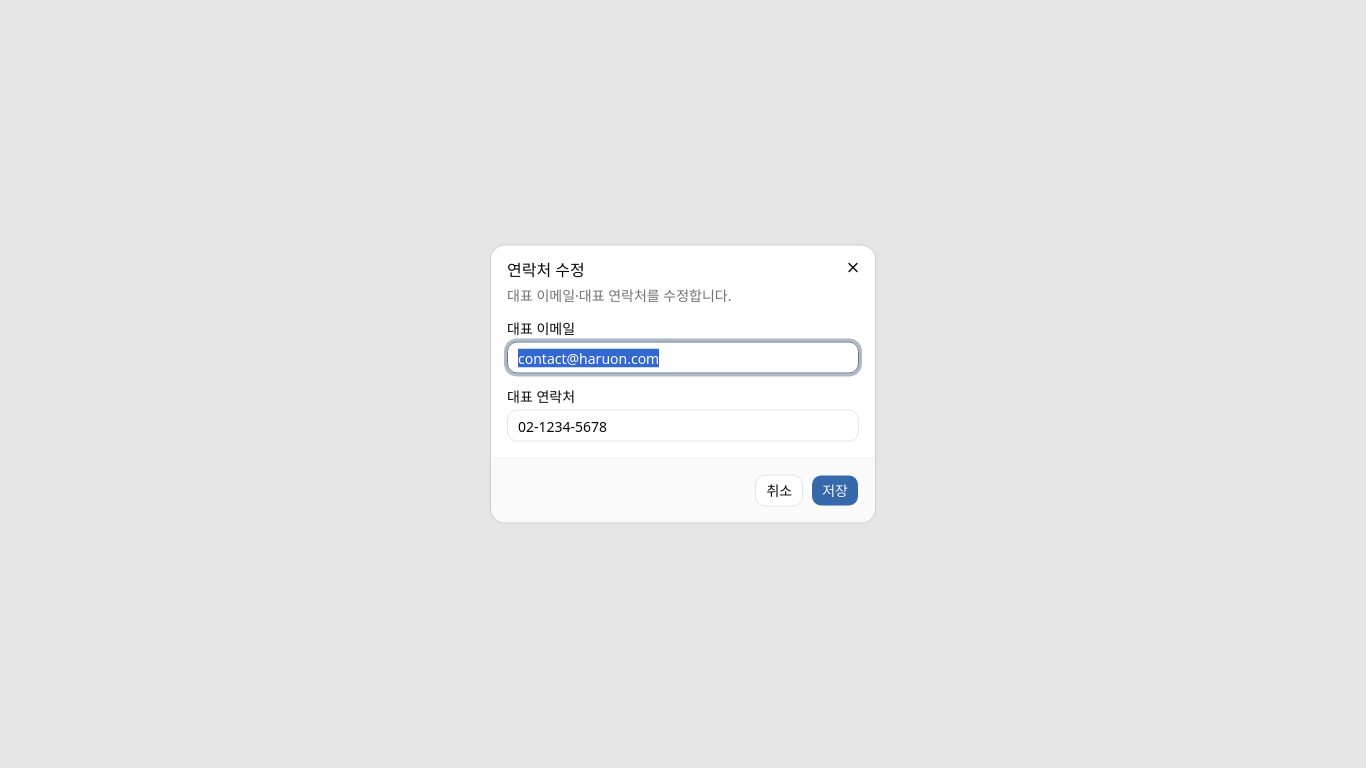
CompanyContactEditDialog › 이메일 형식이 올바르지 않으면 zod 검증 에러를 노출한다
Replace the text in the field labelled "대표 이메일" with "not-an-email". click: (683, 358)
box: [507,342,859,374]
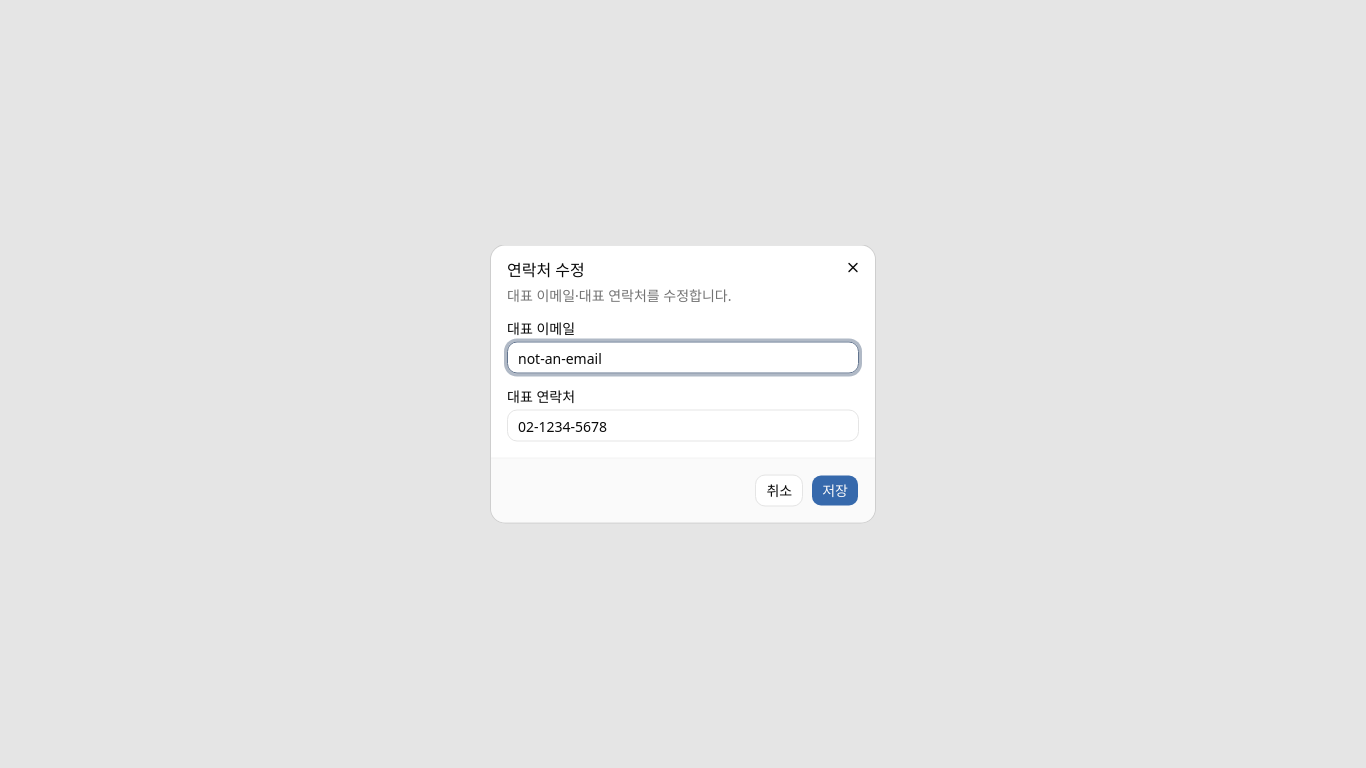
Click the button "저장". click: (835, 490)
box: [811,474,859,506]
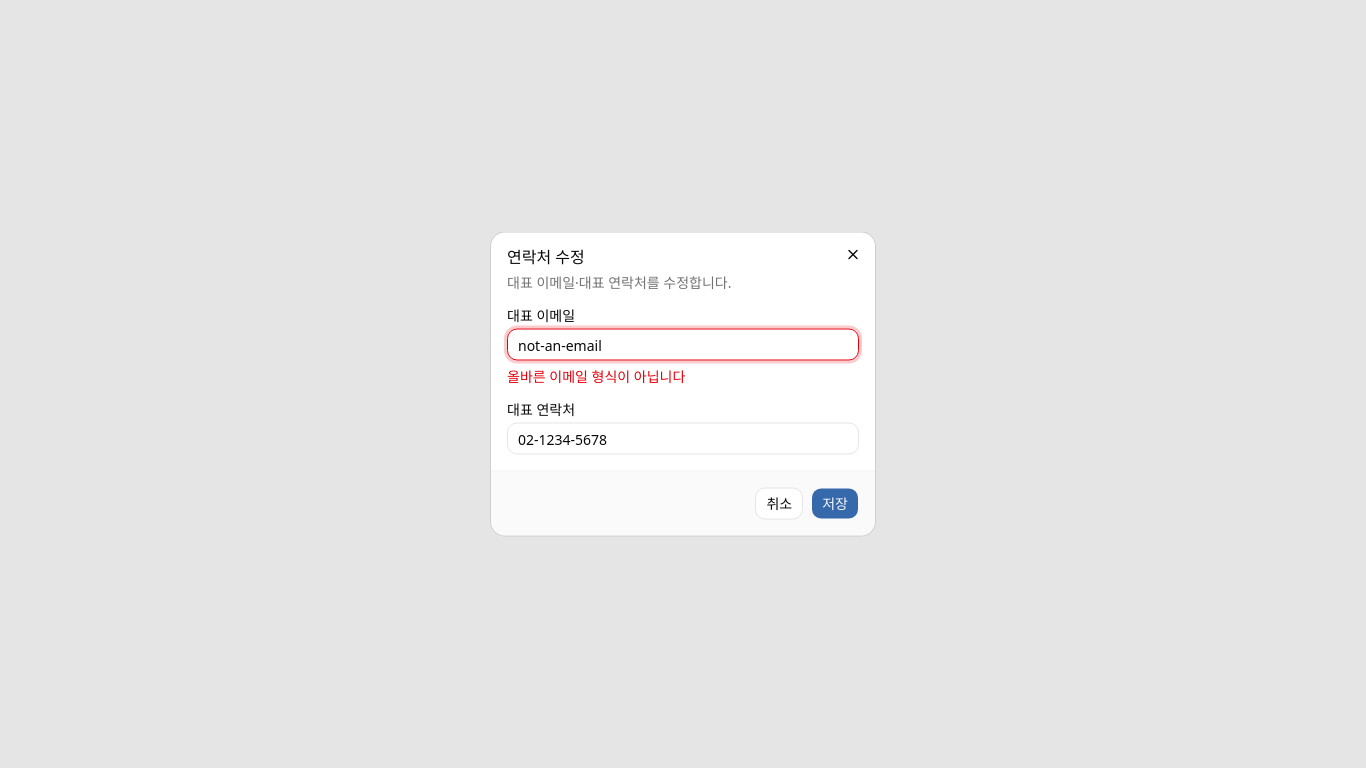
Expected: the text "올바른 이메일 형식이 아닙니다" is shown, [507,366,685,386]
